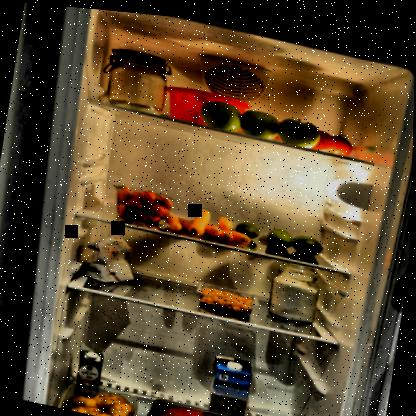apple: (196, 91, 327, 146)
beef: (145, 391, 270, 415)
butter: (160, 77, 251, 129)
carrot: (165, 196, 257, 244)
heavy_cream: (75, 346, 106, 398)
lime: (233, 214, 326, 252)
milk: (205, 346, 260, 415)
potato: (61, 374, 145, 415)
shrimp: (200, 279, 258, 311)
strawberries: (108, 176, 180, 226)
tomato: (311, 119, 360, 152)
